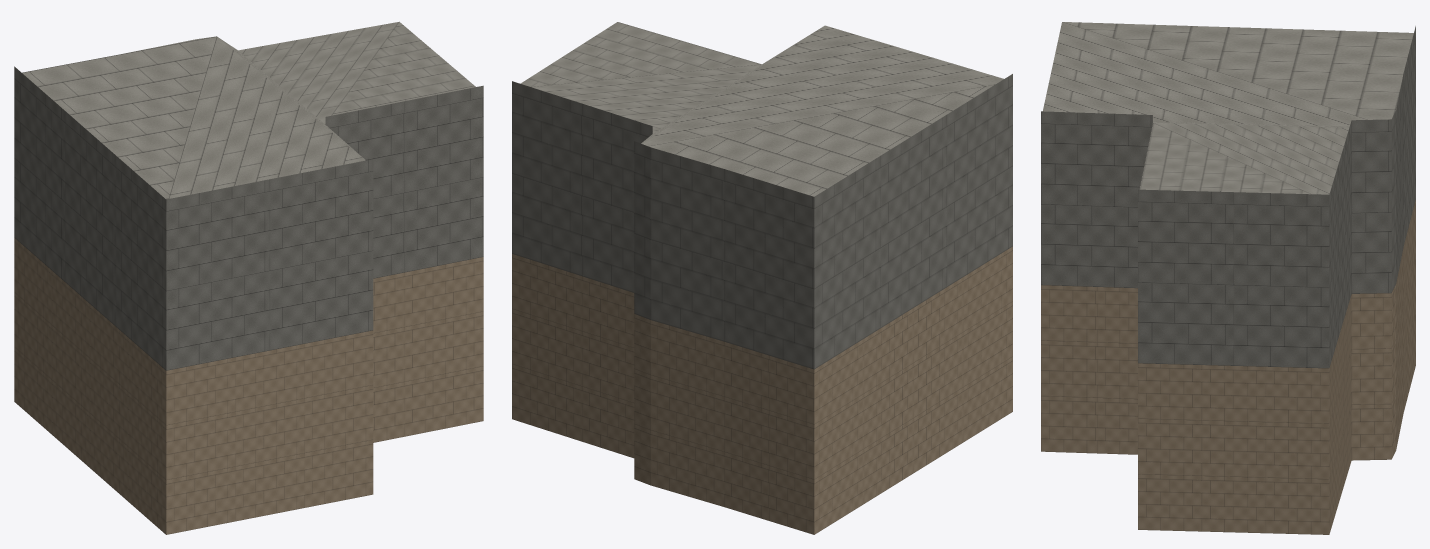
File: bld_c35_-26_447.gltf
3 renders of one model, left to right at view 1: azimuth 30°, elevation 25°; view 2: azimuth 150°, elevation 25°; view 3: azimuth 270°, elevation 25°, orthographic.
Visible parts, largest first — view 1: bld_c35_-26_447; view 2: bld_c35_-26_447; view 3: bld_c35_-26_447.
Part boxes in pixels (x1,y1,x2,y2): bld_c35_-26_447: (14,21,483,534); bld_c35_-26_447: (512,22,1012,534); bld_c35_-26_447: (1041,22,1415,534).
Size of the model in its own units: 11.82 by 10.38 by 10.37.
Materials: 4 (4 with a texture image).
